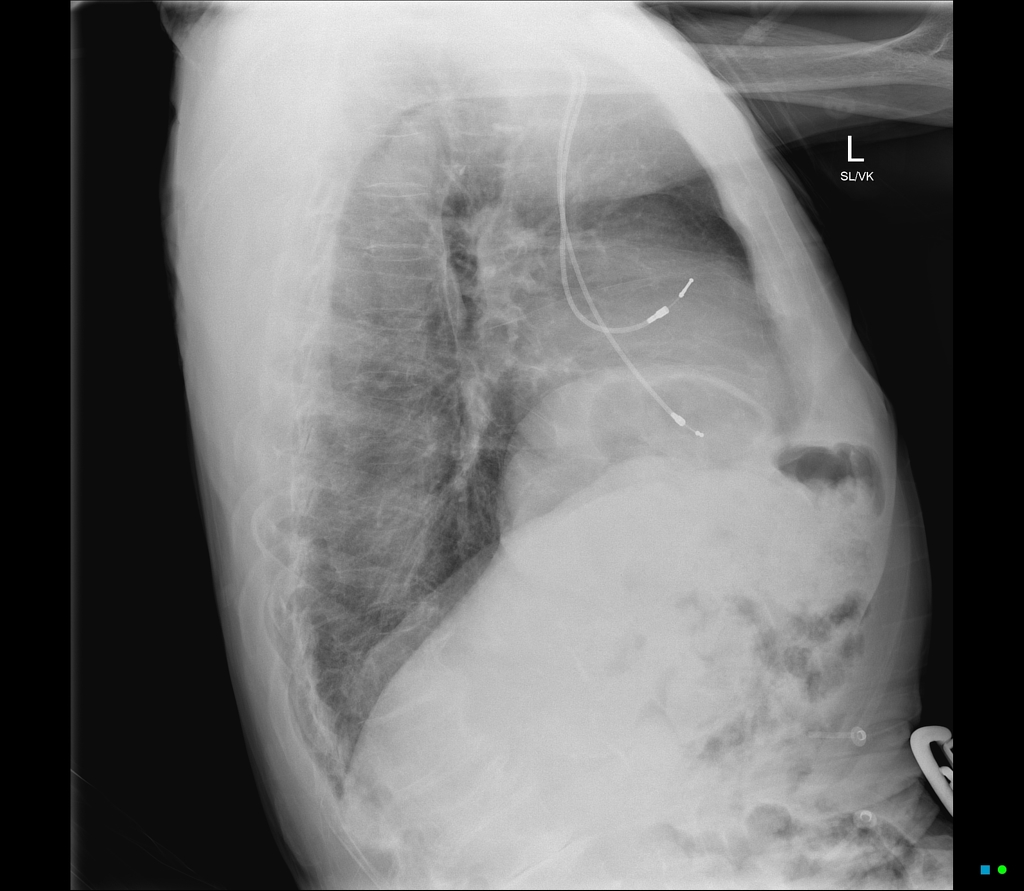cancer: (299, 162, 776, 546)
